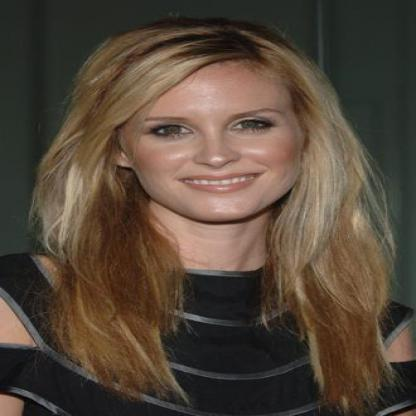long-hair: (29, 224, 398, 262)
